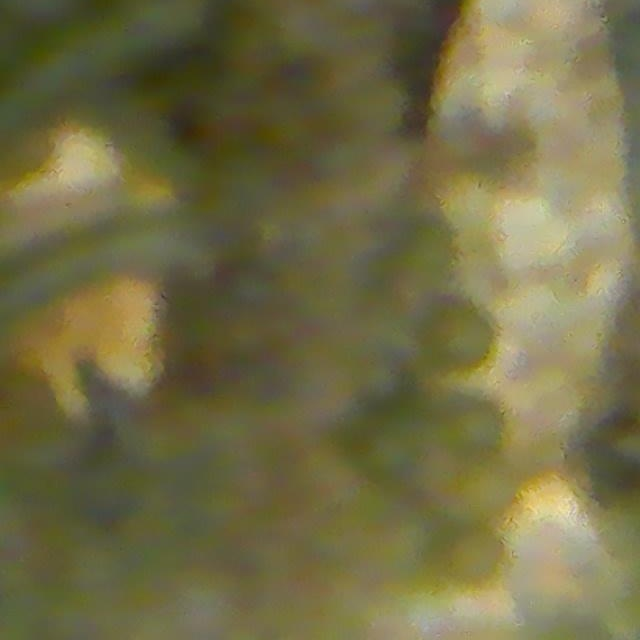SeaGrape: (417, 291, 496, 368), (448, 393, 503, 457), (441, 532, 502, 589), (466, 463, 516, 522)
